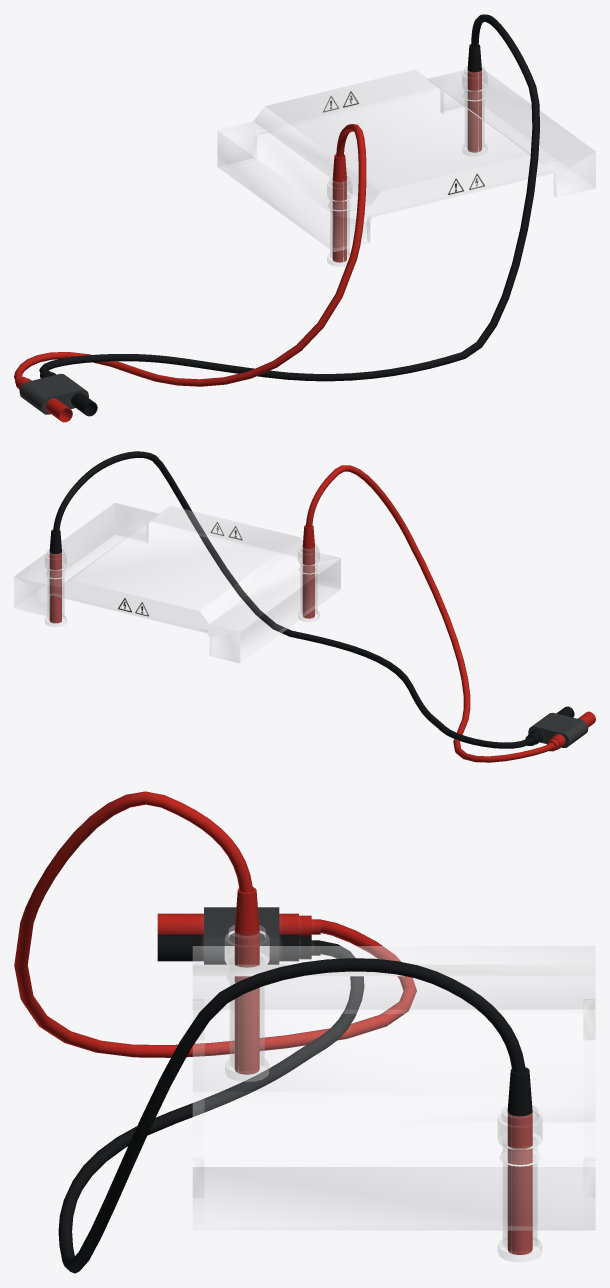
Rendered from 电泳仪.glb.
3 views of the same model, one above another, from view 1: azimuth 30°, elevation 25°; view 2: azimuth 150°, elevation 25°; view 3: azimuth 270°, elevation 25° (orthographic). The views are drawn at different scales.
Visible parts, largest first — view 1: 电泳仪, 电泳仪.001, 电泳仪.005, 电泳仪.002; view 2: 电泳仪, 电泳仪.001, 电泳仪.002, 电泳仪.005; view 3: 电泳仪, 电泳仪.001, 电泳仪.005, 电泳仪.002.
Boxes of the visible parts, left/top/right/bottom form: 电泳仪: left=217, top=70, right=595, bottom=251; 电泳仪.001: left=14, top=14, right=539, bottom=422; 电泳仪.005: left=462, top=44, right=487, bottom=156; 电泳仪.002: left=327, top=154, right=352, bottom=266; 电泳仪: left=14, top=503, right=340, bottom=663; 电泳仪.001: left=53, top=451, right=595, bottom=762; 电泳仪.002: left=298, top=525, right=319, bottom=621; 电泳仪.005: left=45, top=530, right=66, bottom=626; 电泳仪: left=192, top=946, right=595, bottom=1230; 电泳仪.001: left=14, top=791, right=525, bottom=1273; 电泳仪.005: left=498, top=1067, right=542, bottom=1261; 电泳仪.002: left=225, top=887, right=269, bottom=1081.
Bounding box in the file's own units: 1.98 × 0.8207 × 1.05.
1 material, 1 textured.
